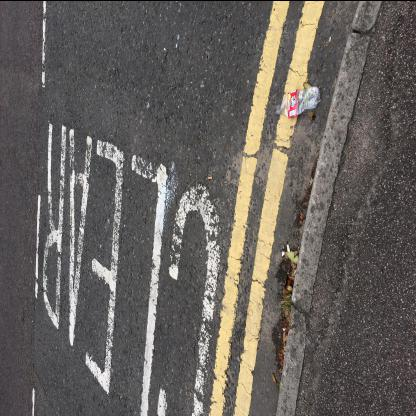plastik: (275, 84, 321, 118)
